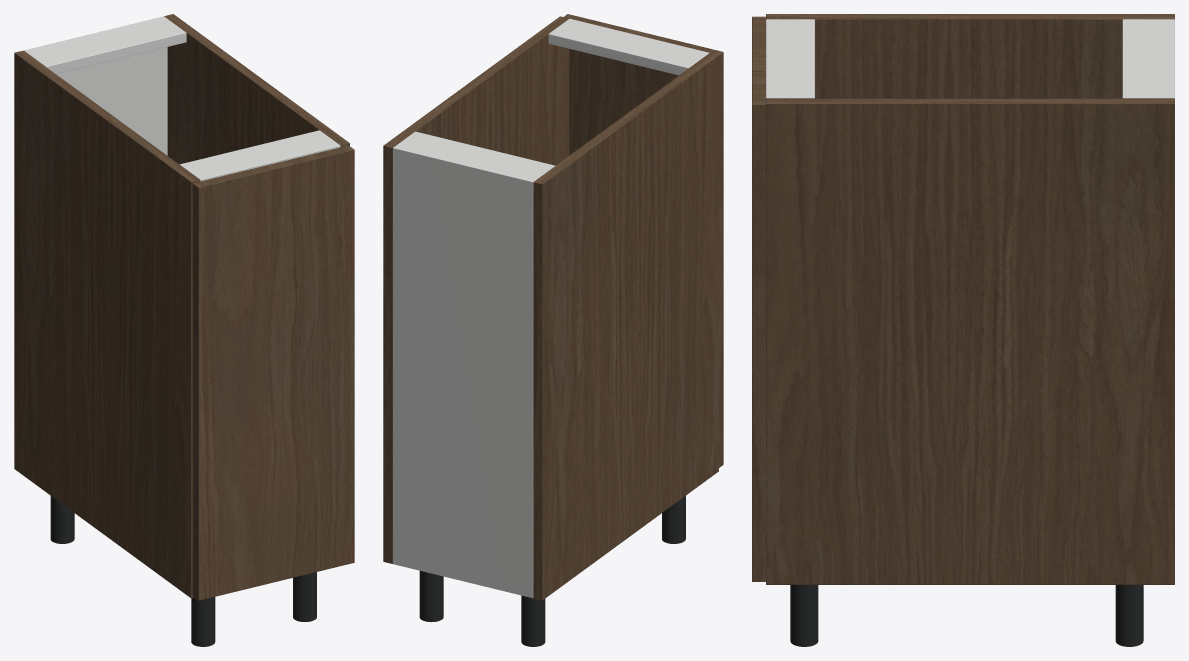
File: oppein-pb-mso-bsr12.glb
The picture shows the model from 3 angles, left to right: view 1: azimuth 30°, elevation 25°; view 2: azimuth 150°, elevation 25°; view 3: azimuth 270°, elevation 25°; orthographic projection. The views are drawn at different scales.
Parts seen in each view (by area): view 1: Cabinet side, Door, Cabinet side.001, Cabinet back, Top support rail, Top support rail.001, Adjustable foot.001, Adjustable foot.003, Adjustable foot; view 2: Cabinet side, Cabinet back, Cabinet side.001, Door, Top support rail.001, Top support rail, Adjustable foot, Adjustable foot.002, Adjustable foot.001; view 3: Cabinet side.001, Cabinet side, Door, Top support rail.001, Top support rail, Adjustable foot.002, Adjustable foot.003, Cabinet back.
Boxes of the visible parts, <box> form: Cabinet side: <box>14,50,200,598</box>; Door: <box>192,145,354,600</box>; Cabinet side.001: <box>164,14,349,164</box>; Cabinet back: <box>24,16,167,155</box>; Top support rail: <box>25,18,186,73</box>; Top support rail.001: <box>179,130,340,181</box>; Adjustable foot.001: <box>191,597,215,646</box>; Adjustable foot.003: <box>293,572,316,621</box>; Adjustable foot: <box>50,496,74,543</box>; Cabinet side: <box>533,53,718,600</box>; Cabinet back: <box>393,145,535,597</box>; Cabinet side.001: <box>383,16,569,563</box>; Door: <box>564,14,723,467</box>; Top support rail.001: <box>548,18,709,75</box>; Top support rail: <box>396,131,554,179</box>; Adjustable foot: <box>521,595,545,646</box>; Adjustable foot.002: <box>419,571,443,622</box>; Adjustable foot.001: <box>662,496,685,543</box>; Cabinet side.001: <box>766,98,1174,584</box>; Cabinet side: <box>766,14,1174,98</box>; Door: <box>752,16,765,581</box>; Top support rail.001: <box>766,19,814,98</box>; Top support rail: <box>1122,19,1166,98</box>; Adjustable foot.002: <box>1115,585,1143,646</box>; Adjustable foot.003: <box>790,585,818,646</box>; Cabinet back: <box>1167,19,1174,98</box>.
Bounding box in the file's own units: 0.3048 × 0.8763 × 0.6064.
3 materials, 1 textured.
